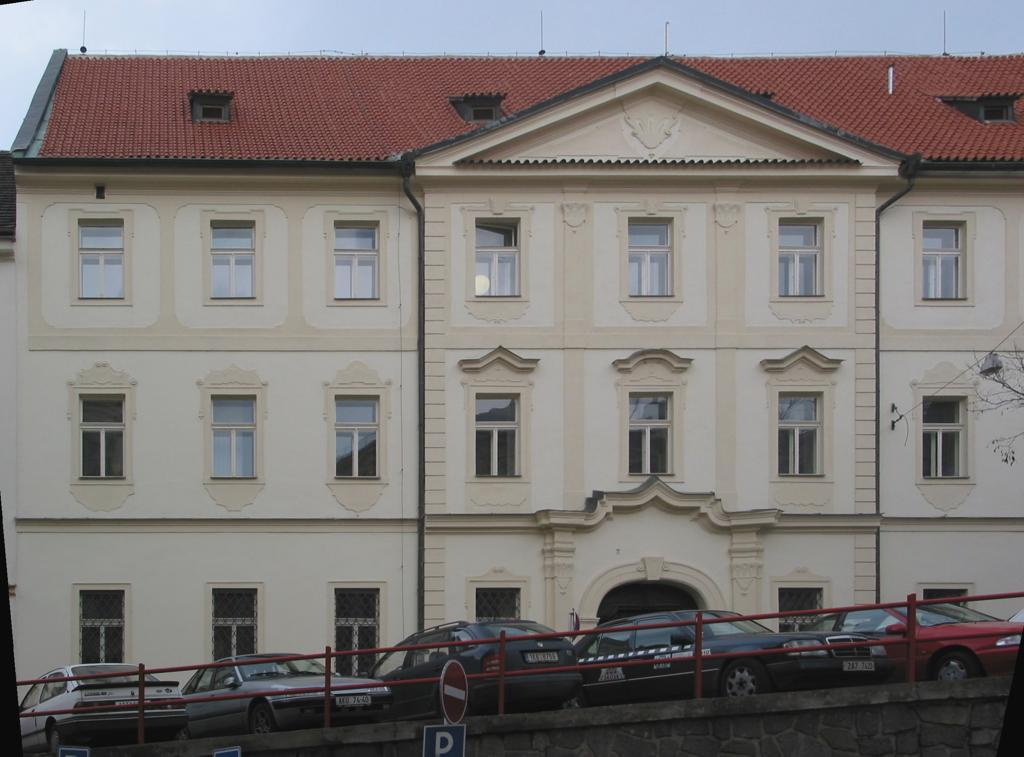window: (79, 393, 126, 478), (77, 589, 124, 674), (211, 588, 258, 673), (335, 589, 382, 674), (777, 588, 824, 673), (474, 588, 521, 673), (922, 395, 970, 478), (211, 394, 258, 478), (475, 392, 521, 477), (627, 215, 674, 298), (778, 392, 825, 475), (629, 392, 675, 476), (335, 395, 381, 478), (78, 218, 125, 299), (210, 220, 257, 299), (334, 220, 380, 300), (922, 220, 968, 300), (778, 217, 824, 296), (475, 218, 521, 296), (199, 104, 227, 121), (471, 107, 499, 124), (985, 106, 1010, 121)
